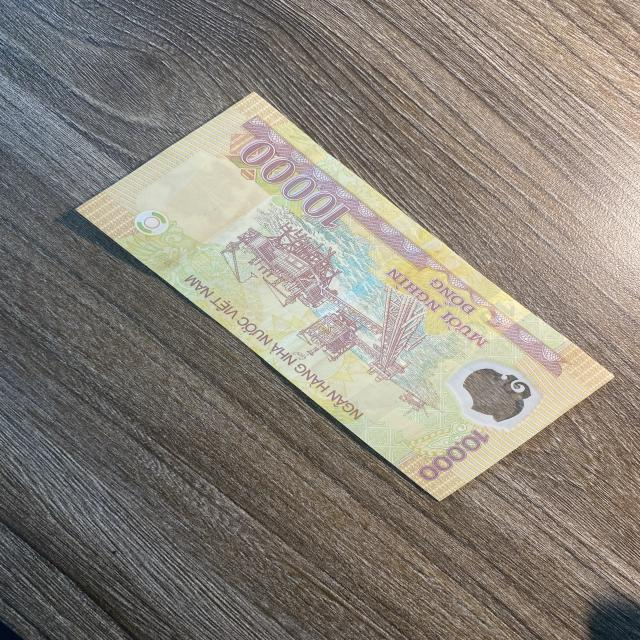10 000 VND: (73, 89, 618, 503)
